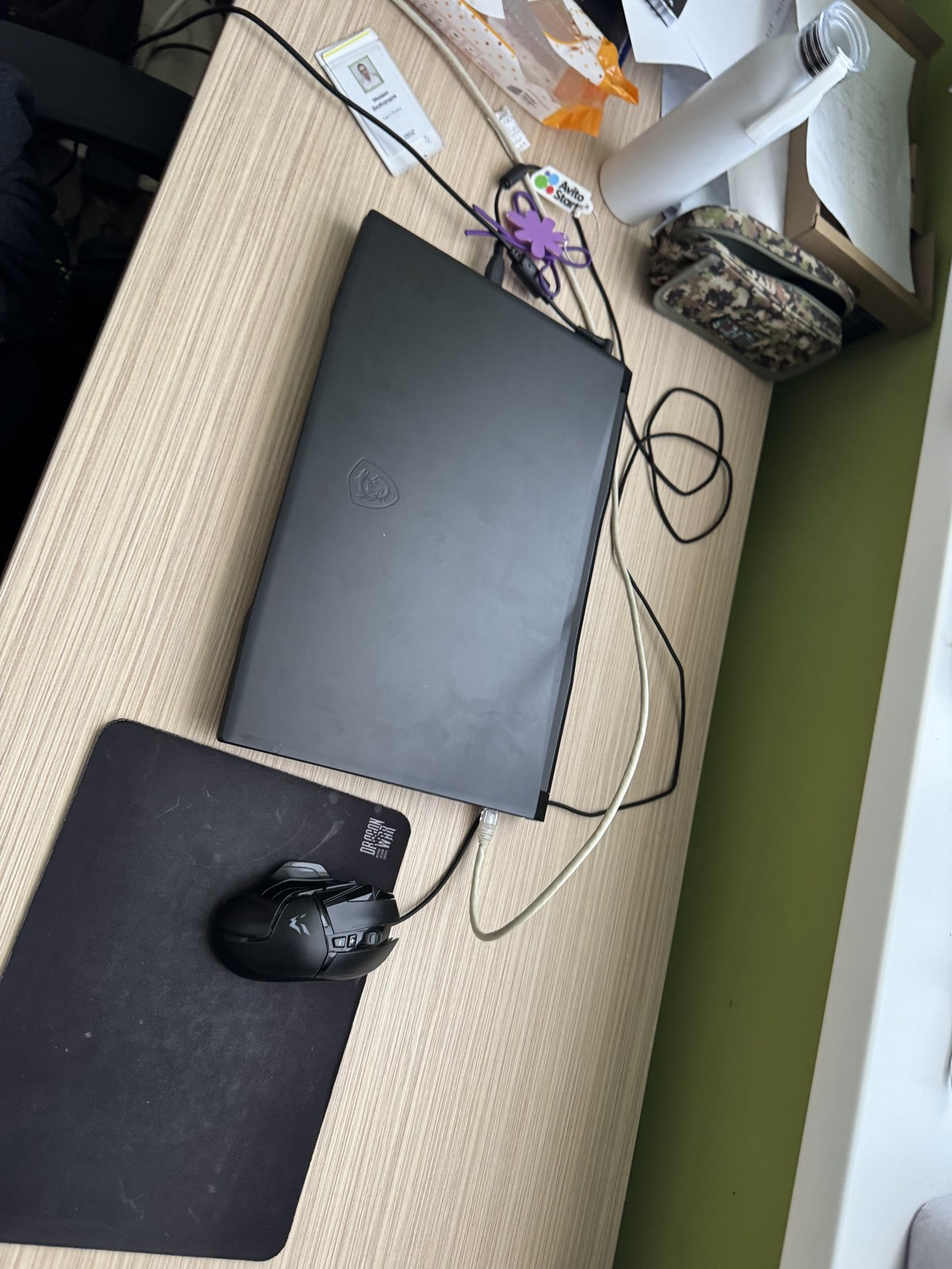laptop: (215, 208, 632, 821)
